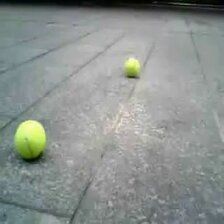tennis: (15, 120, 44, 156), (125, 57, 140, 75)
